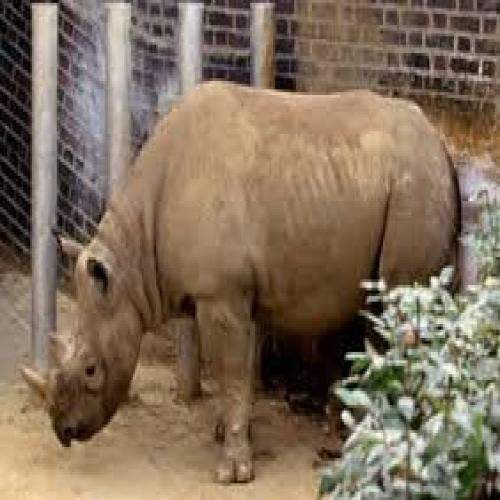rhino-endangered: (18, 80, 464, 485)
